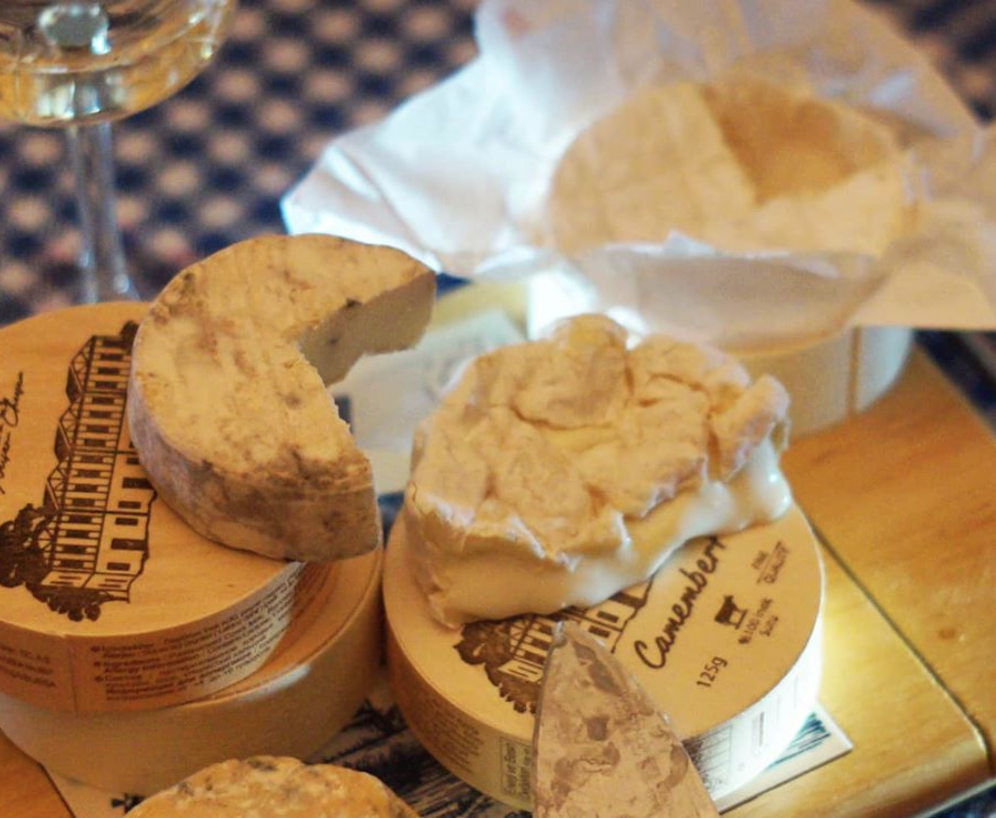camembert: (401, 312, 790, 631)
